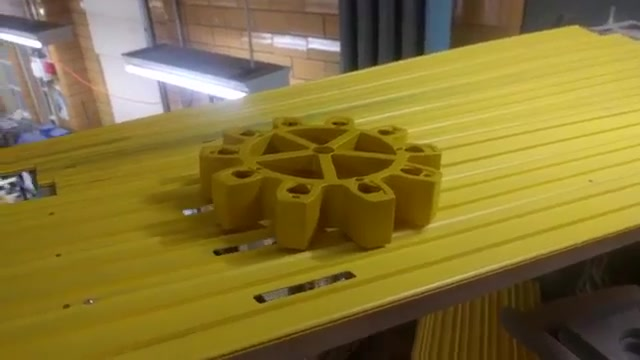gear: (191, 117, 449, 258)
